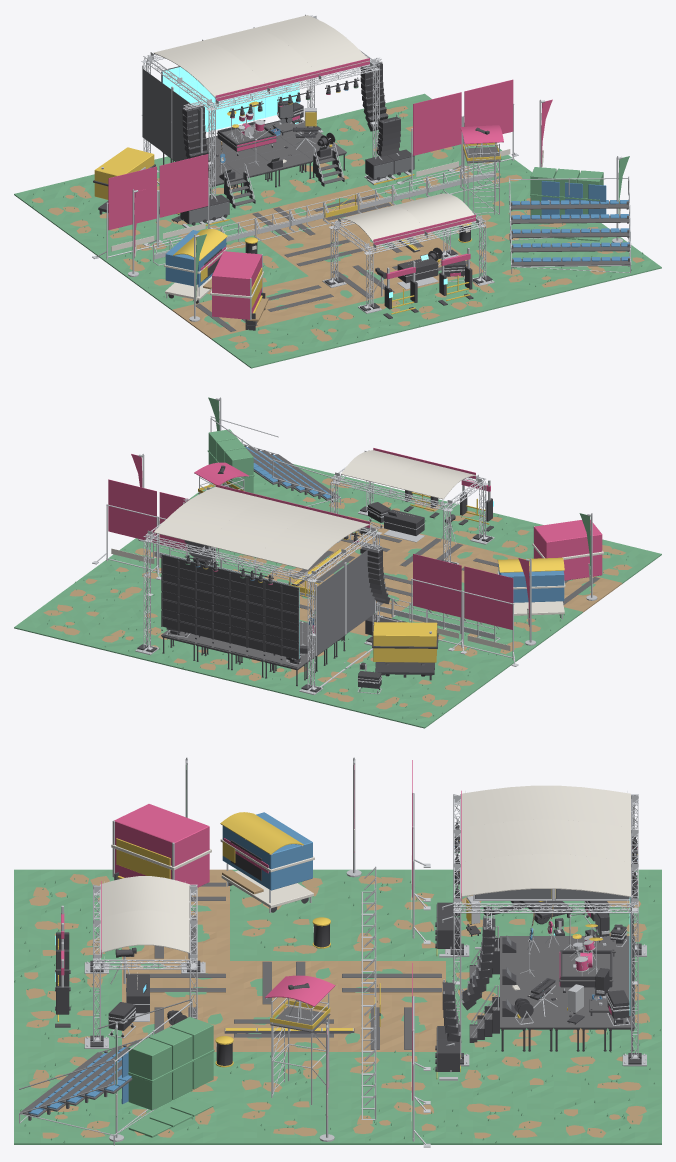
File: city_house.glb
3 renders of one model, top to bottom at view 1: azimuth 30°, elevation 25°; view 2: azimuth 150°, elevation 25°; view 3: azimuth 270°, elevation 25°, orthographic. The views are drawn at different scales.
Visible parts, largest first — view 1: 216-scaffold-seating-stand/1, 084-stage-roof-canopy-section/0, 085-stage-roof-canopy-section/0, 086-stage-roof-canopy-section/0, 206-merch-stall/0, 172-backdrop-banner-frame/1, 216-scaffold-seating-stand/2, 173-backdrop-banner-frame/1, 005-festival-field-ground-tile/0, 011-festival-field-ground-tile/0, 171-backdrop-banner-frame/1, 000-festival-field-ground-tile/0 (+47 smaller); view 2: 084-stage-roof-canopy-section/0, 086-stage-roof-canopy-section/0, 085-stage-roof-canopy-section/0, 206-merch-stall/0, 171-backdrop-banner-frame/1, 172-backdrop-banner-frame/1, 217-generator-trailer/0, 000-festival-field-ground-tile/0, 030-festival-field-ground-tile/0, 174-backdrop-banner-frame/1, 031-festival-field-ground-tile/0, 001-festival-field-ground-tile/0 (+40 smaller); view 3: 207-portable-toilet-block/0, 086-stage-roof-canopy-section/0, 084-stage-roof-canopy-section/0, 085-stage-roof-canopy-section/0, 206-merch-stall/0, 031-festival-field-ground-tile/0, 030-festival-field-ground-tile/0, 033-festival-field-ground-tile/0, 032-festival-field-ground-tile/0, 024-festival-field-ground-tile/0, 002-festival-field-ground-tile/0, 027-festival-field-ground-tile/0 (+81 smaller).
Boxes of the visible parts, <box> form: 216-scaffold-seating-stand/1: <box>510,201,630,267</box>; 084-stage-roof-canopy-section/0: <box>154,40,266,98</box>; 085-stage-roof-canopy-section/0: <box>205,27,318,85</box>; 086-stage-roof-canopy-section/0: <box>257,15,369,73</box>; 206-merch-stall/0: <box>212,251,261,319</box>; 172-backdrop-banner-frame/1: <box>159,154,208,217</box>; 216-scaffold-seating-stand/2: <box>511,200,630,261</box>; 173-backdrop-banner-frame/1: <box>413,92,461,155</box>; 005-festival-field-ground-tile/0: <box>211,322,319,368</box>; 011-festival-field-ground-tile/0: <box>280,305,387,351</box>; 171-backdrop-banner-frame/1: <box>108,166,156,230</box>; 000-festival-field-ground-tile/0: <box>14,177,108,223</box>; 084-stage-roof-canopy-section/0: <box>256,512,369,569</box>; 086-stage-roof-canopy-section/0: <box>153,486,266,544</box>; 085-stage-roof-canopy-section/0: <box>205,499,317,557</box>; 206-merch-stall/0: <box>534,520,602,580</box>; 171-backdrop-banner-frame/1: <box>464,566,513,629</box>; 172-backdrop-banner-frame/1: <box>413,554,461,617</box>; 217-generator-trailer/0: <box>373,622,437,662</box>; 000-festival-field-ground-tile/0: <box>356,682,464,728</box>; 030-festival-field-ground-tile/0: <box>14,598,121,644</box>; 174-backdrop-banner-frame/1: <box>108,479,156,542</box>; 031-festival-field-ground-tile/0: <box>54,569,160,614</box>; 001-festival-field-ground-tile/0: <box>396,653,503,699</box>; 207-portable-toilet-block/0: <box>128,1017,214,1137</box>; 086-stage-roof-canopy-section/0: <box>461,854,630,896</box>; 084-stage-roof-canopy-section/0: <box>461,785,630,827</box>; 085-stage-roof-canopy-section/0: <box>461,819,630,861</box>; 206-merch-stall/0: <box>114,804,209,887</box>; 031-festival-field-ground-tile/0: <box>446,1097,553,1144</box>; 030-festival-field-ground-tile/0: <box>554,1097,661,1144</box>; 033-festival-field-ground-tile/0: <box>230,1096,337,1144</box>; 032-festival-field-ground-tile/0: <box>338,1097,445,1144</box>; 024-festival-field-ground-tile/0: <box>554,1050,661,1097</box>; 002-festival-field-ground-tile/0: <box>338,869,445,915</box>; 027-festival-field-ground-tile/0: <box>230,1052,337,1097</box>.
Size of the model in its own units: 24.78 by 6.99 by 24.01.
